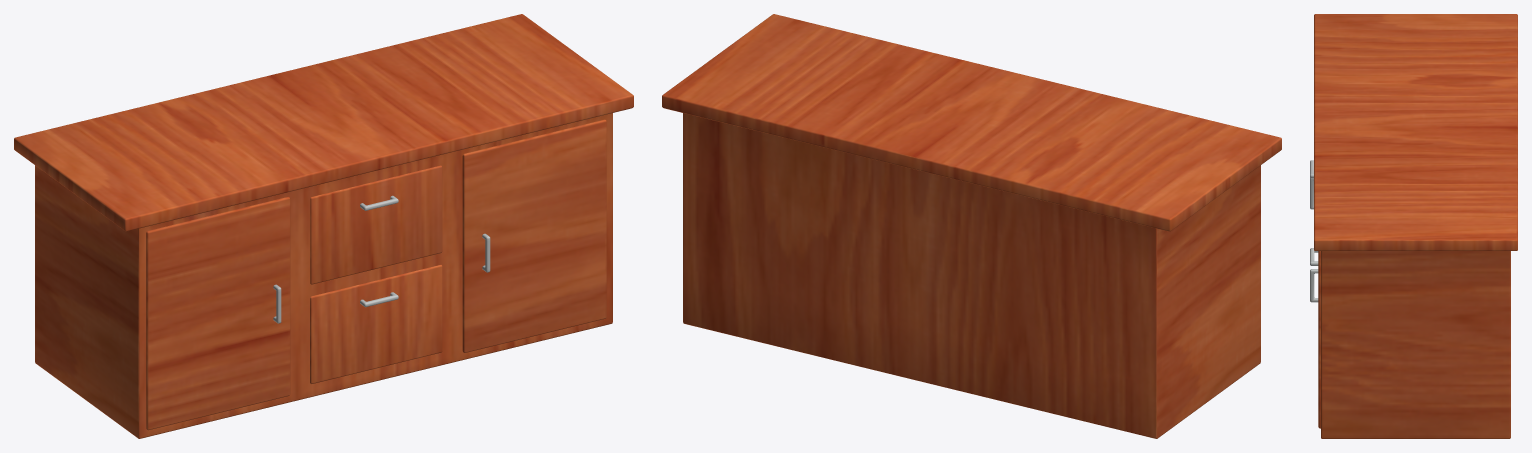
Rendered from cabinet_1.gltf.
The picture shows the model from 3 angles, left to right: view 1: azimuth 30°, elevation 25°; view 2: azimuth 150°, elevation 25°; view 3: azimuth 270°, elevation 25°; orthographic projection. The views are drawn at different scales.
Parts seen in each view (by area): view 1: node0; view 2: node0; view 3: node0.
Boxes of the visible parts, x1=… form: node0: x1=14, y1=14, x2=633, y2=438; node0: x1=662, y1=14, x2=1281, y2=438; node0: x1=1310, y1=14, x2=1517, y2=438.
Bounding box in the file's own units: 2.01 × 0.8573 × 0.7795.
1 material, 1 textured.
